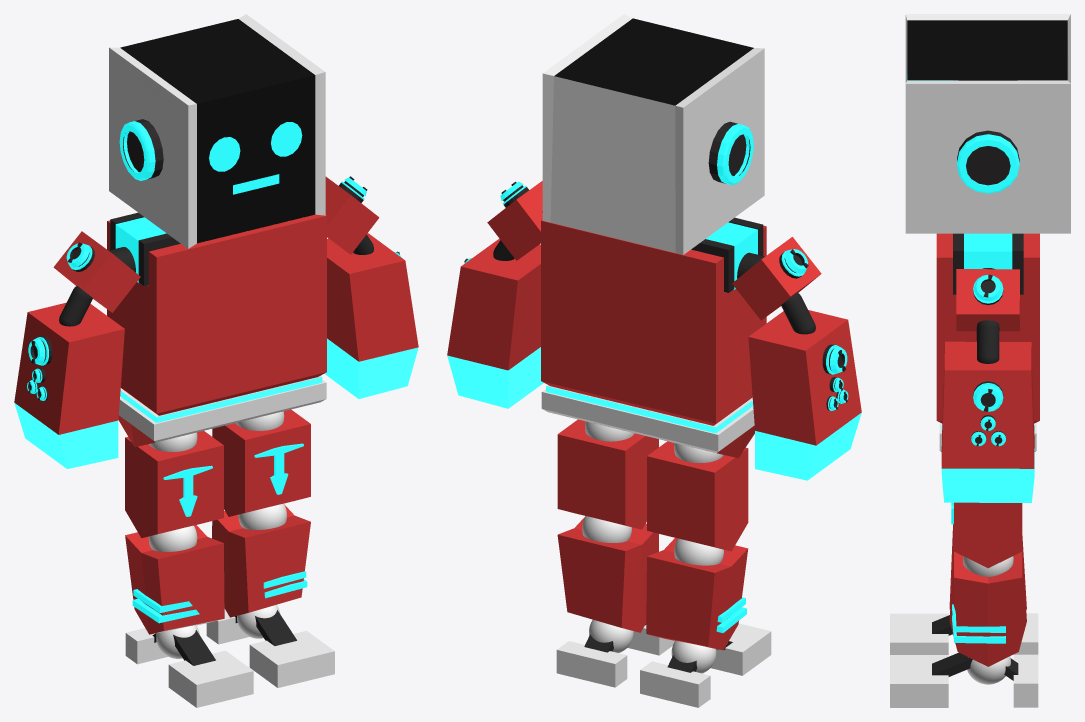
Rendered from untitled-Cqk7XK8c.glb.
3 renders of one model, left to right at view 1: azimuth 30°, elevation 25°; view 2: azimuth 150°, elevation 25°; view 3: azimuth 270°, elevation 25°, orthographic. The views are drawn at different scales.
Parts seen in each view (by area): view 1: Cube, Cube001; view 2: Cube, Cube001; view 3: Cube, Cube001.
Part boxes in pixels (left/top/right/bottom): Cube: left=14, top=14, right=418, bottom=707; Cube001: left=27, top=119, right=401, bottom=623; Cube: left=447, top=14, right=861, bottom=707; Cube001: left=464, top=121, right=848, bottom=632; Cube: left=890, top=14, right=1070, bottom=707; Cube001: left=907, top=74, right=1023, bottom=643.
Bounding box in the file's own units: 1.26 × 1.94 × 0.5103.
